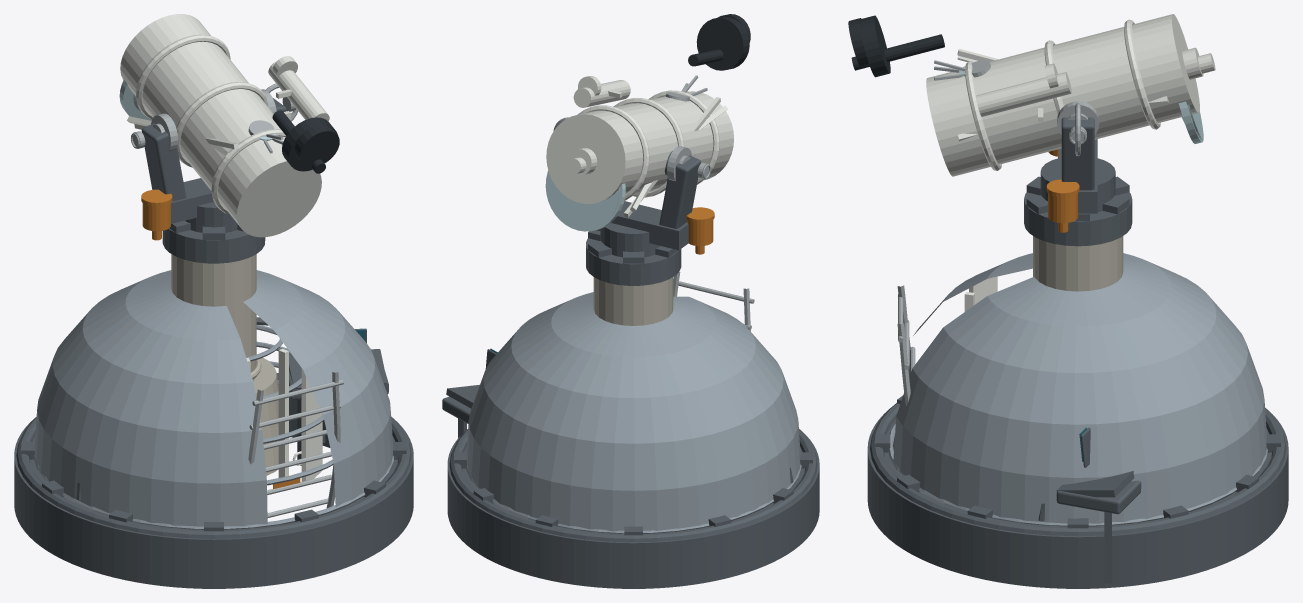
The model's file is observatory_telescope.glb.
3 views of the same model, side by side, from view 1: azimuth 30°, elevation 25°; view 2: azimuth 150°, elevation 25°; view 3: azimuth 270°, elevation 25° (orthographic). The views are drawn at different scales.
Visible parts, largest first — view 1: dome_shell, dome_base, telescope_tube, pier, mount_base, ladder, fork, counterweight, dome_shutters, drive_motor, control_desk, ra_axis (+1 smaller); view 2: dome_shell, dome_base, telescope_tube, mount_base, fork, pier, counterweight, primary_mirror, control_desk, drive_motor, ladder, ra_axis; view 3: dome_shell, dome_base, telescope_tube, mount_base, pier, control_desk, counterweight, fork, drive_motor, ladder, ra_axis, dome_shutters (+2 smaller).
Boxes of the visible parts, <box> form: dome_shell: <box>33,270,394,529</box>; dome_base: <box>14,373,413,588</box>; telescope_tube: <box>120,14,329,237</box>; pier: <box>171,254,278,475</box>; mount_base: <box>162,202,265,263</box>; ladder: <box>248,372,343,517</box>; fork: <box>141,98,286,223</box>; counterweight: <box>272,110,339,173</box>; dome_shutters: <box>246,348,322,481</box>; drive_motor: <box>141,189,172,240</box>; control_desk: <box>289,328,388,465</box>; ra_axis: <box>151,83,298,151</box>; dome_shell: <box>465,292,801,533</box>; dome_base: <box>447,429,819,588</box>; telescope_tube: <box>546,76,733,217</box>; mount_base: <box>586,223,681,285</box>; fork: <box>596,151,700,250</box>; pier: <box>593,277,673,325</box>; counterweight: <box>688,14,750,70</box>; primary_mirror: <box>545,170,625,231</box>; control_desk: <box>442,349,496,437</box>; drive_motor: <box>686,207,714,254</box>; ladder: <box>673,272,754,331</box>; ra_axis: <box>553,117,691,181</box>; dome_shell: <box>888,253,1267,526</box>; dome_base: <box>867,395,1288,588</box>; telescope_tube: <box>926,14,1215,176</box>; mount_base: <box>1024,158,1132,246</box>; pier: <box>1033,236,1123,291</box>; control_desk: <box>1056,427,1141,583</box>; counterweight: <box>848,15,944,77</box>; fork: <box>1058,117,1097,213</box>; drive_motor: <box>1046,149,1079,232</box>; ladder: <box>897,285,915,406</box>; ra_axis: <box>1057,101,1099,156</box>; dome_shutters: <box>964,276,997,311</box>.
Size of the model in its own units: 2.91 by 3.54 by 2.93.
